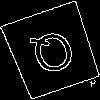Q: (26, 25, 82, 86)
